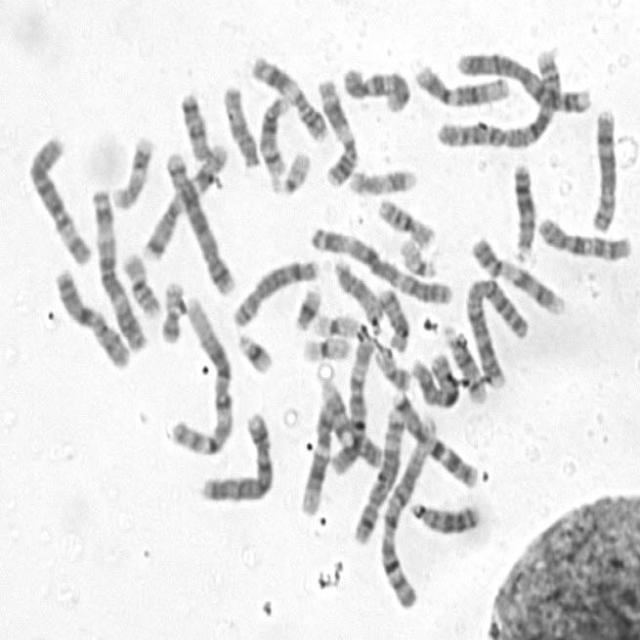A1: (375, 402, 440, 610), (165, 291, 237, 457)
A2: (431, 42, 564, 151), (462, 270, 532, 393)
A3: (306, 220, 455, 307), (88, 185, 147, 353)
B4: (453, 44, 594, 116), (198, 405, 276, 503)
B5: (162, 145, 238, 297), (350, 402, 407, 545)
C10: (534, 209, 635, 263), (339, 59, 413, 114)
C11: (247, 49, 330, 142), (314, 73, 361, 189)
C12: (411, 60, 512, 108), (296, 399, 336, 517)
C6: (23, 129, 95, 266), (328, 332, 374, 477)
C7: (138, 136, 230, 263), (387, 384, 481, 491)
C8: (228, 252, 320, 328), (588, 101, 620, 235)
C9: (467, 232, 569, 316), (316, 377, 386, 469)
D13: (406, 494, 482, 537), (509, 157, 537, 263)
D14: (440, 320, 490, 404), (255, 90, 293, 180)
D15: (330, 253, 385, 326), (219, 80, 262, 169)
E16: (374, 192, 437, 251), (118, 247, 162, 319)
E17: (108, 132, 156, 210), (345, 162, 418, 197)
E18: (176, 86, 213, 163), (374, 281, 412, 353)
F19: (298, 330, 353, 364), (310, 308, 360, 339)
F20: (156, 274, 188, 344), (372, 343, 412, 392)
G21: (233, 326, 276, 376), (290, 281, 324, 331)
G22: (396, 231, 440, 279), (270, 146, 312, 196)
X: (50, 263, 132, 370), (407, 347, 462, 409)
